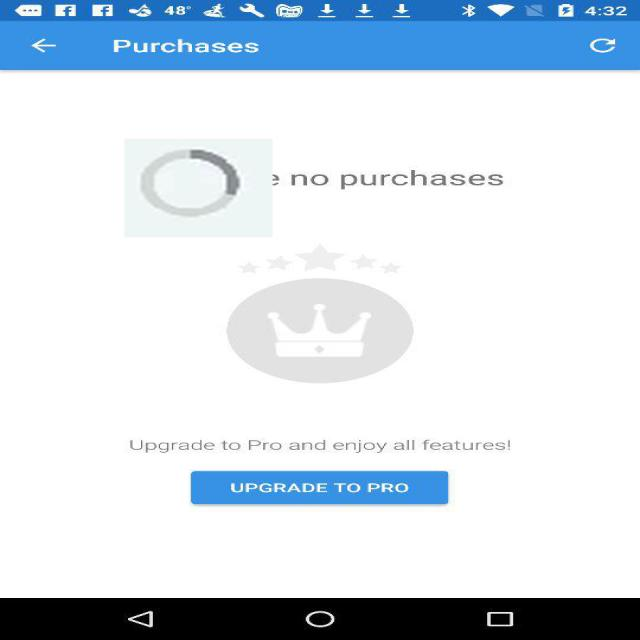misdirection: (125, 139, 272, 237)
